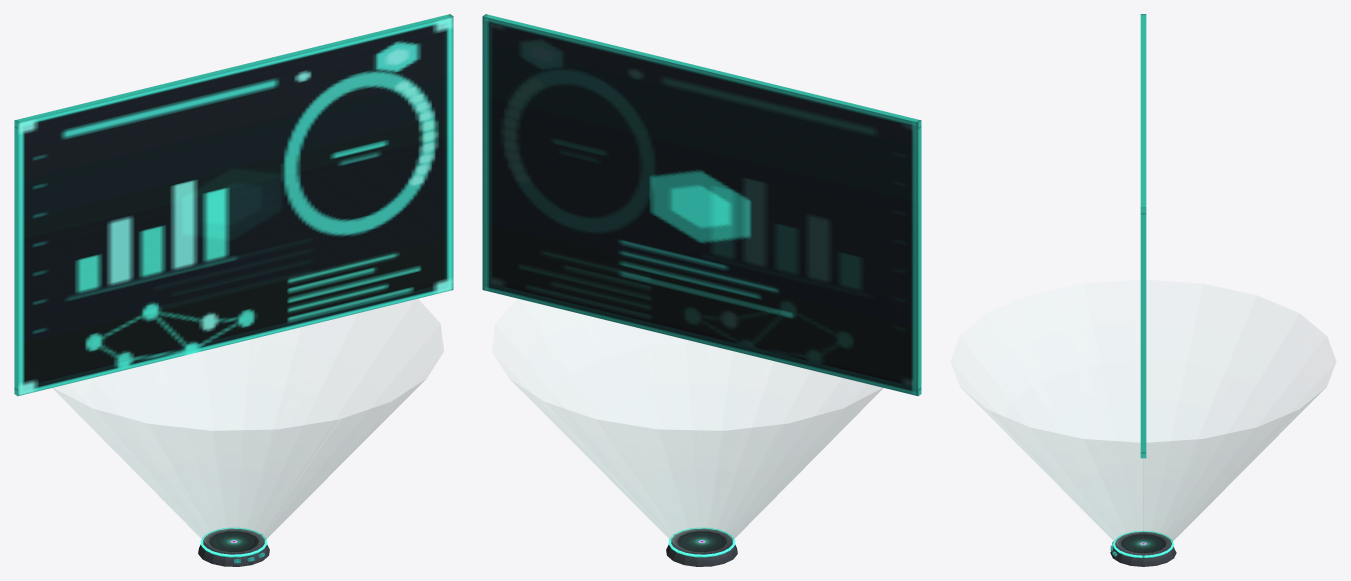
File: holo-screen.glb
The picture shows the model from 3 angles, left to right: view 1: azimuth 30°, elevation 25°; view 2: azimuth 150°, elevation 25°; view 3: azimuth 270°, elevation 25°; orthographic projection. The views are drawn at different scales.
Visible parts, largest first — view 1: holo-panel-mesh, holo-base-mesh; view 2: holo-panel-mesh, holo-base-mesh; view 3: holo-panel-mesh, holo-base-mesh.
Boxes of the visible parts, x1=… form: holo-panel-mesh: x1=14, y1=14, x2=453, y2=552; holo-base-mesh: x1=198, y1=527, x2=269, y2=566; holo-panel-mesh: x1=482, y1=14, x2=921, y2=552; holo-base-mesh: x1=666, y1=527, x2=737, y2=566; holo-panel-mesh: x1=951, y1=14, x2=1335, y2=553; holo-base-mesh: x1=1110, y1=530, x2=1176, y2=566.
Bounding box in the file's own units: 1 × 1.06 × 0.84.
Materials: 2 (2 with a texture image).
